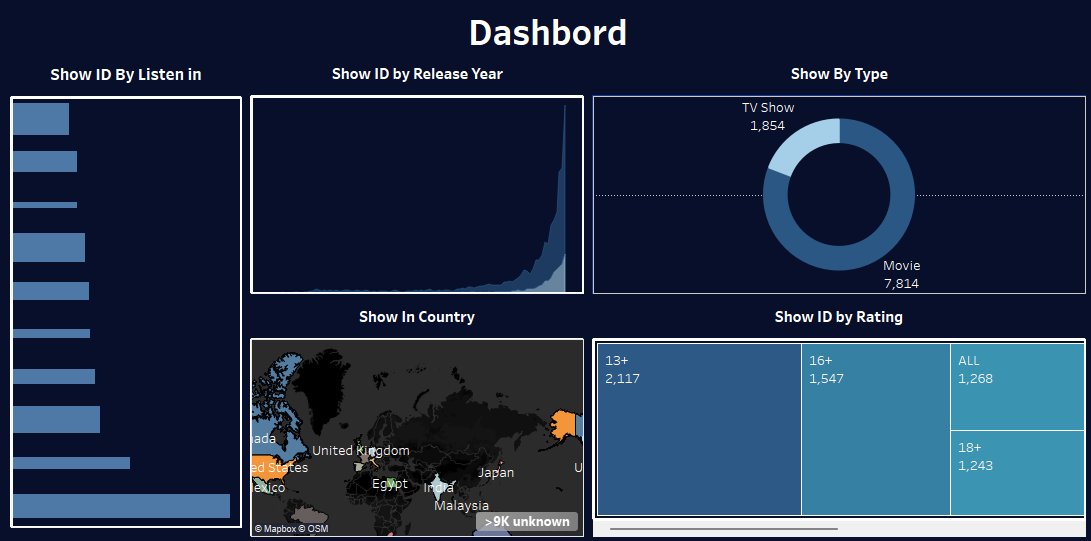

This screenshot's page, from the dashboard's own definition file:
{"tool":"tableau","page":{"name":"Dashboard","canvas":[1100,550],"ordinal":0},"visuals":[{"type":"text","box":[8,8,1084,48]},{"type":"worksheet","title":"ID By Listen","mark":"Automatic","rows":["listed_in"],"cols":["show_id"],"box":[8,56,240,486]},{"type":"worksheet","title":"ID By Year","mark":"Area","rows":["show_id"],"cols":["release_year"],"box":[248,56,342,243]},{"type":"worksheet","title":"Show By Type","mark":"Pie","rows":["Calculation_1249467478548869123","Calculation_1249467478548946949"],"box":[590,56,502,243]},{"type":"worksheet","title":"Map Based On Show","mark":"Multipolygon","box":[248,299,342,243]},{"type":"worksheet","title":"Show by Rating","mark":"Automatic","box":[590,299,502,243]}]}

Visuals, with their boxes in screenshot pixels (x1, y1, x2, y2), scaled from the page's 1100x550 canvas onto the 1091x541 screenshot:
text: (8,8,1083,55)
"ID By Listen" worksheet: (8,55,246,533)
"ID By Year" worksheet (Area marks): (246,55,585,294)
"Show By Type" worksheet (Pie marks): (585,55,1083,294)
"Map Based On Show" worksheet (Multipolygon marks): (246,294,585,533)
"Show by Rating" worksheet: (585,294,1083,533)
